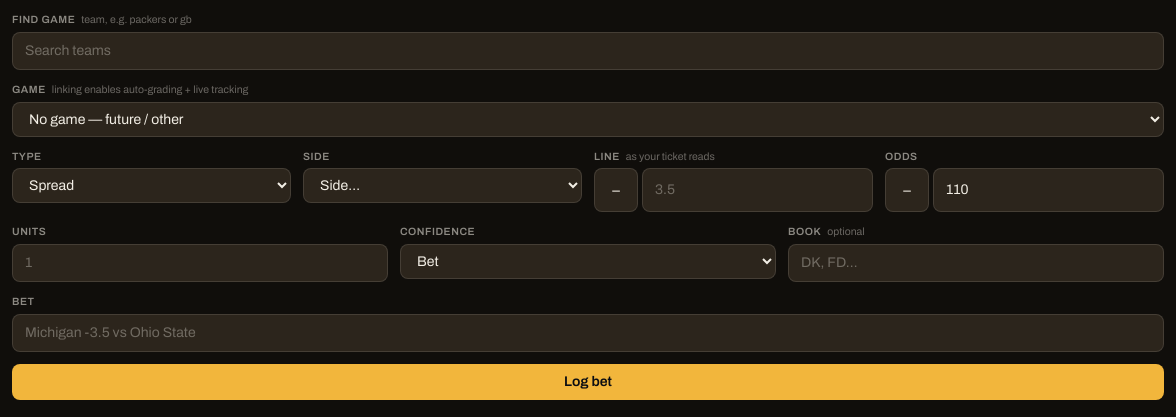
Test: BetForm suggestions (0083 follow-up) › the dog gets the same number flipped, a scheduled game says current
Select "OU @ TEX · Sat 11:00 AM CT" in the dropdown labelled "Game" at (588, 119), box [12,102,1164,136]
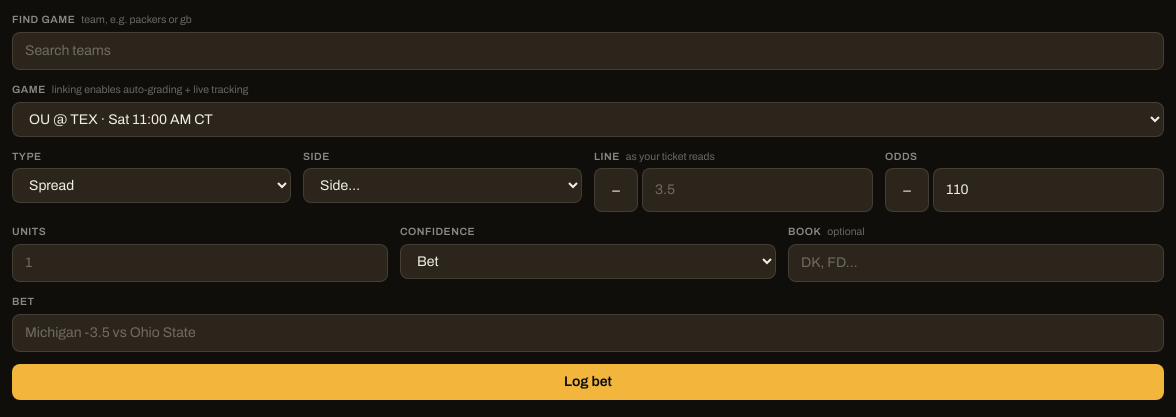
Select "OU" in the dropdown labelled "Side" at (442, 186), box [303,168,582,203]
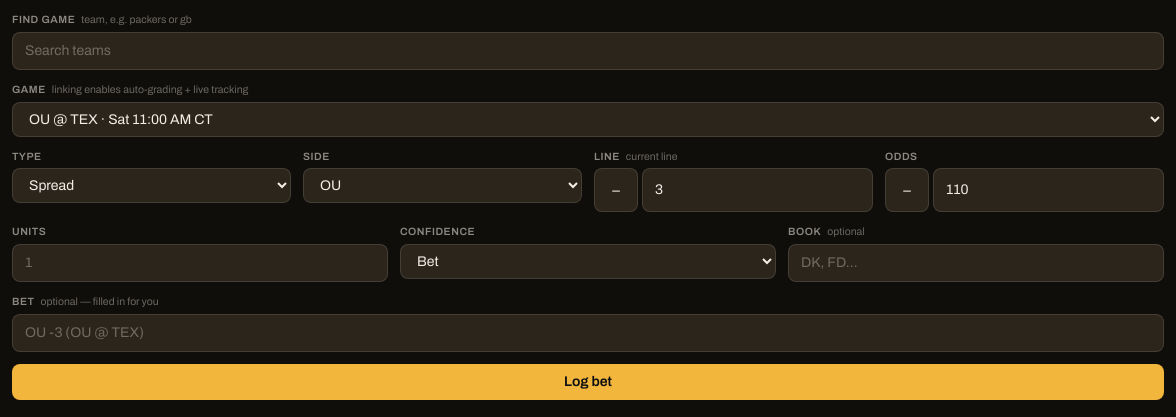
Now the text "current line" is shown, box [626,150,677,162]
